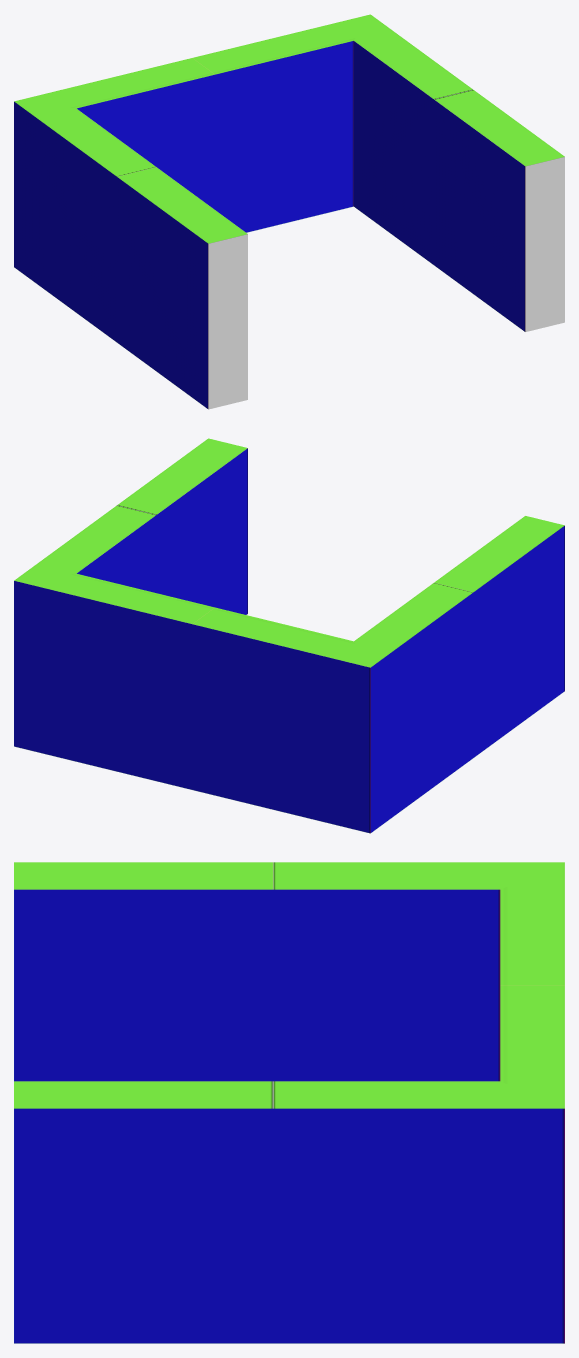
The model's file is MK_MK_Wall_DeadEnd_Half_E.fbx.
3 views of the same model, one above another, from view 1: azimuth 30°, elevation 25°; view 2: azimuth 150°, elevation 25°; view 3: azimuth 270°, elevation 25° (orthographic). The views are drawn at different scales.
Visible parts, largest first — view 1: MK_Wall_DeadEnd_Half_E; view 2: MK_Wall_DeadEnd_Half_E; view 3: MK_Wall_DeadEnd_Half_E.
Part boxes in pixels (box(x1,y1,x2,y2)): MK_Wall_DeadEnd_Half_E: box(14, 14, 564, 409); MK_Wall_DeadEnd_Half_E: box(14, 438, 564, 833); MK_Wall_DeadEnd_Half_E: box(14, 862, 564, 1343).
Bounding box in the file's own units: 202 × 90 × 191.
Materials: 1 (1 with a texture image).
